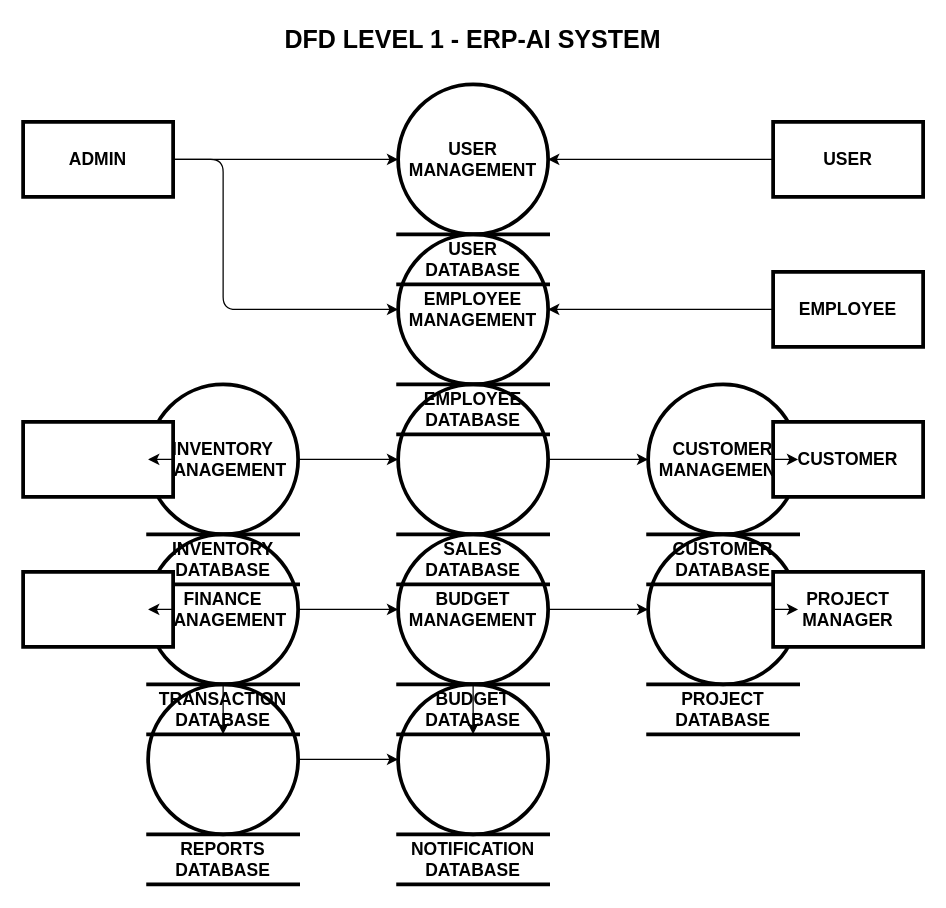
Some shapes in this 946 by 908 pixel diagram are drawn without their labels. Each missing label, with the box of its shape:
ANALYTICS ENGINE: (146, 682, 299, 836)
FINANCE MANAGER: (21, 569, 174, 648)
MANAGER: (21, 419, 174, 498)
NOTIFICATION SYSTEM: (396, 682, 549, 836)
PROJECT MANAGEMENT: (646, 532, 799, 686)
SALES MANAGEMENT: (396, 382, 549, 536)
